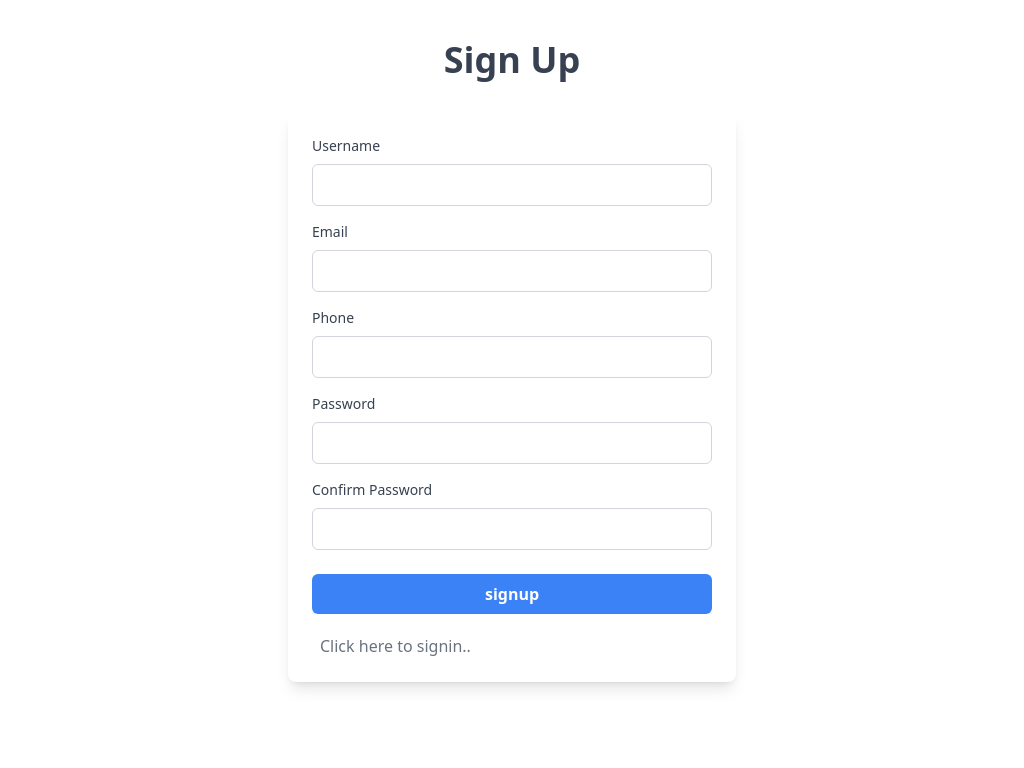
Signup component › should be display error messages when passwords does not match on form submit
The width and height of the screenshot is (1024, 768).
Type "avanthik123" into the password field labelled "Password" at {"x": 512, "y": 443}, box [312,422,712,464]
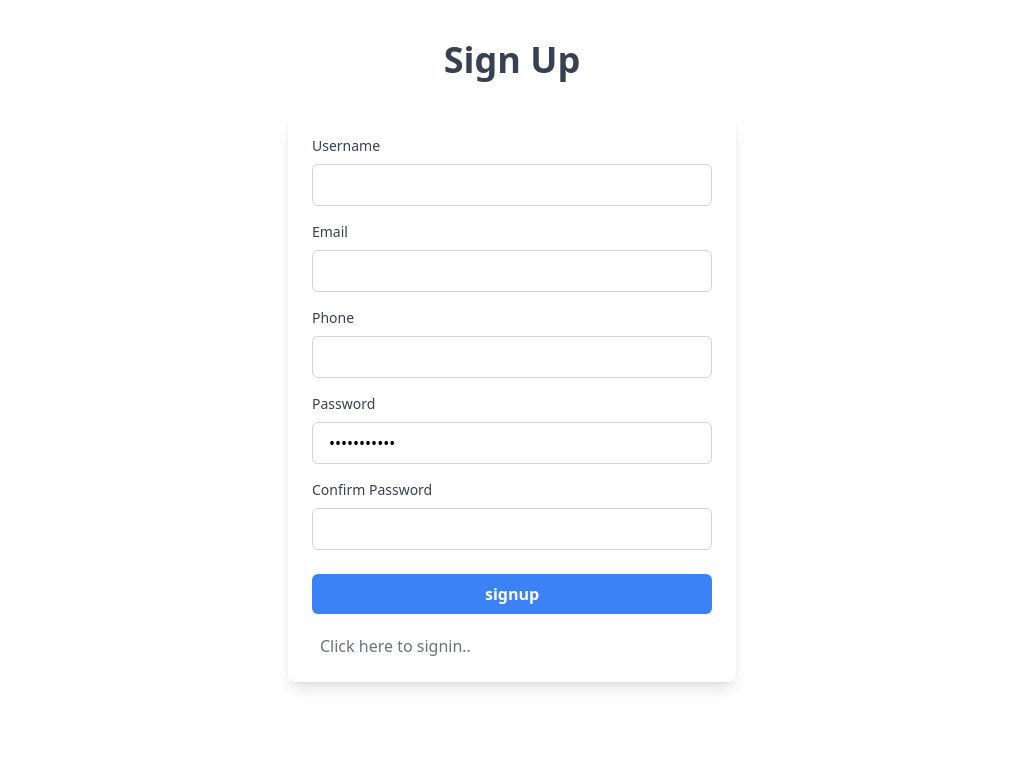
Type "avanthik124" into the password field labelled "Confirm Password" at {"x": 512, "y": 529}, box [312,508,712,550]
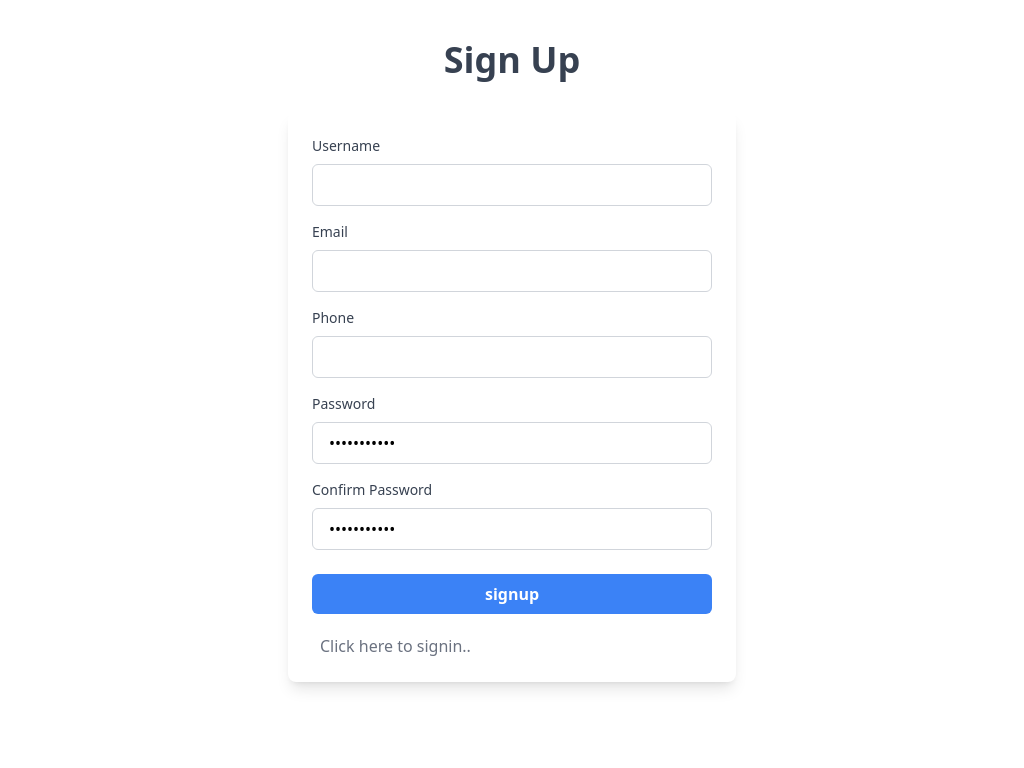
Submit the form, box [312,136,712,658]
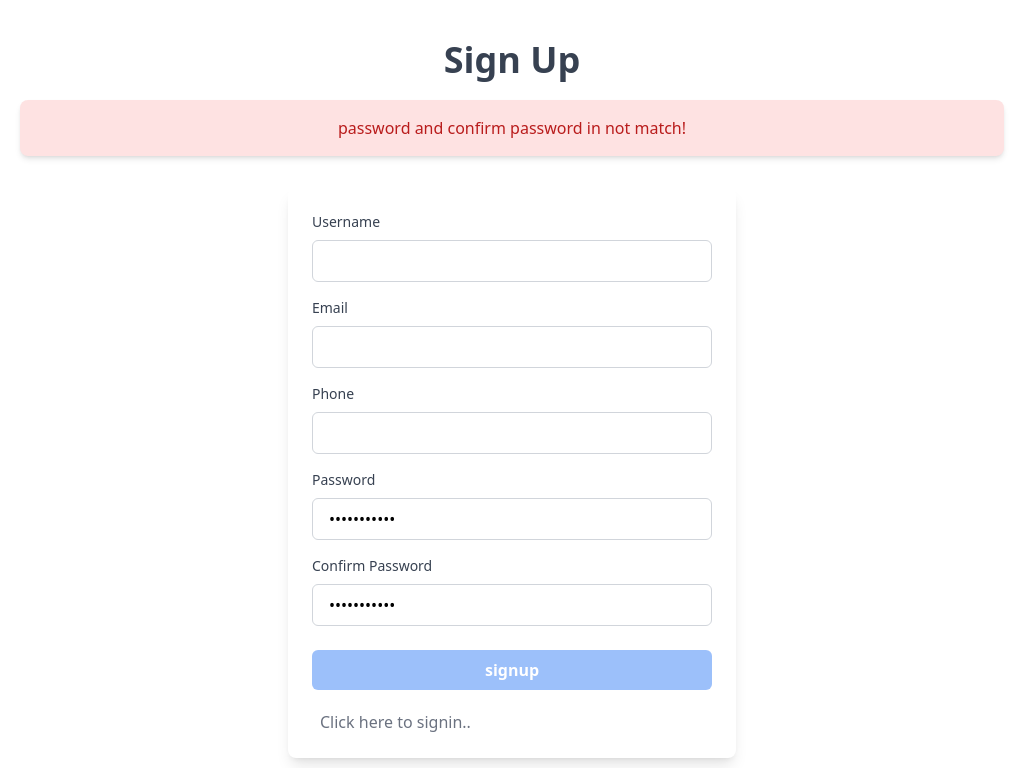
Check: the heading "password and confirm password in not match!" is shown, box [338,116,686,140]
